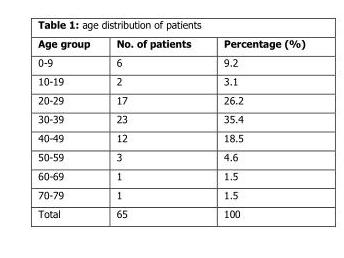table: (37, 36, 304, 219)
table column: (102, 36, 206, 219), (206, 36, 304, 219), (37, 36, 102, 219)
table column header: (37, 36, 304, 52)
table row: (37, 52, 304, 71), (37, 89, 304, 108), (37, 108, 304, 127), (37, 127, 304, 146), (37, 146, 304, 165), (37, 165, 304, 184), (37, 184, 304, 203), (37, 71, 304, 89), (37, 36, 304, 52), (37, 203, 304, 219)
